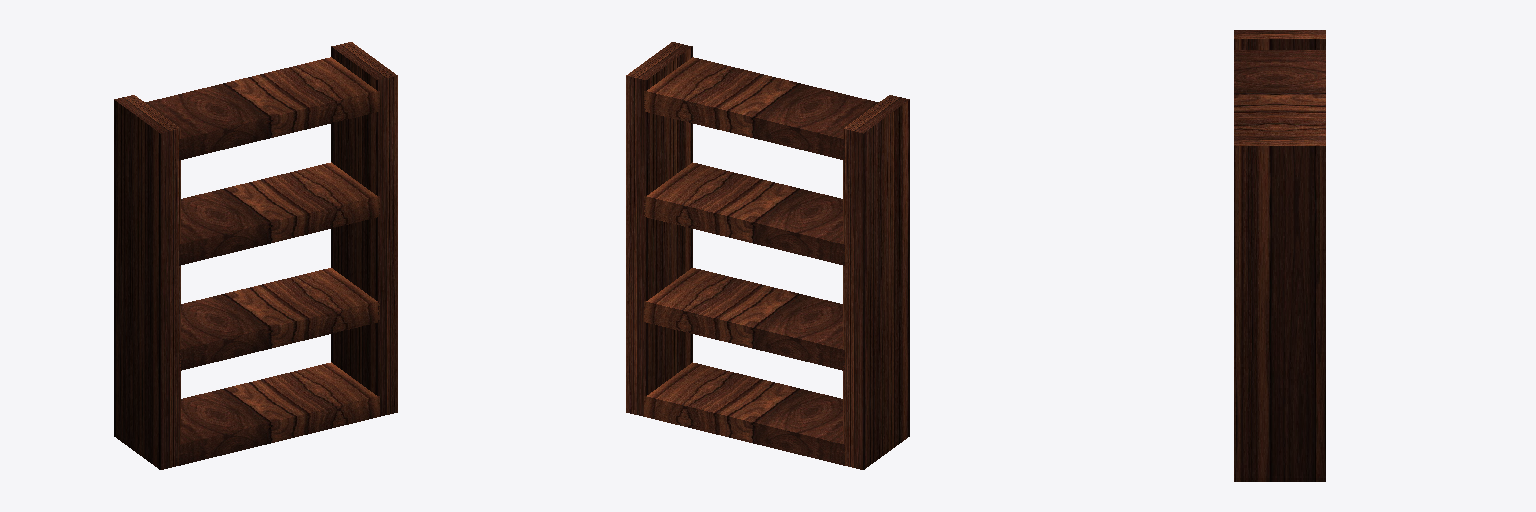
The picture shows the model from 3 angles: view 1: azimuth 30°, elevation 25°; view 2: azimuth 150°, elevation 25°; view 3: azimuth 270°, elevation 25°; orthographic projection.
Parts seen in each view (by area): view 1: pCube3; view 2: pCube3; view 3: pCube3.
Boxes of the visible parts, <box> form: pCube3: <box>114,42,397,469</box>; pCube3: <box>626,42,909,469</box>; pCube3: <box>1234,30,1325,481</box>.
Size of the model in its own units: 5.9 by 8 by 2.
1 materials, 1 textured.